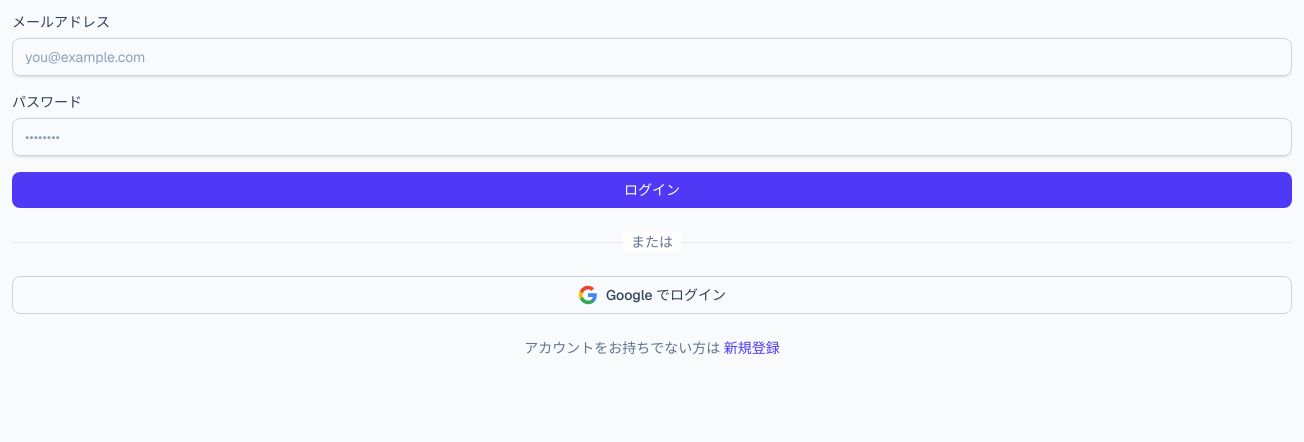
Test: LoginForm › shows error message when user not found
In the field labelled "メールアドレス": coordinates (652, 57) x1=12 y1=38 x2=1292 y2=76, type "notfound@example.com"
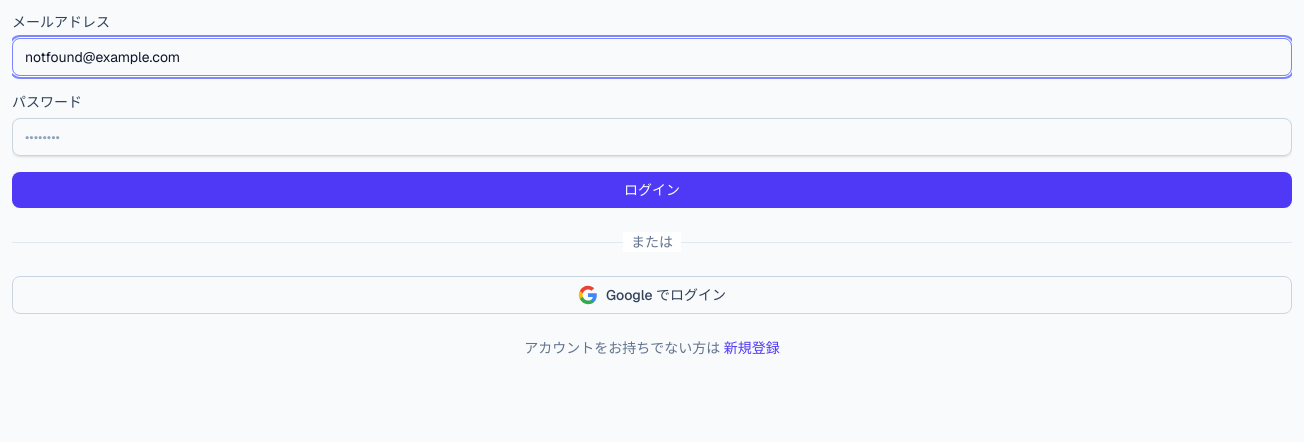
In the password field labelled "パスワード": coordinates (652, 137) x1=12 y1=118 x2=1292 y2=156, type "password123"
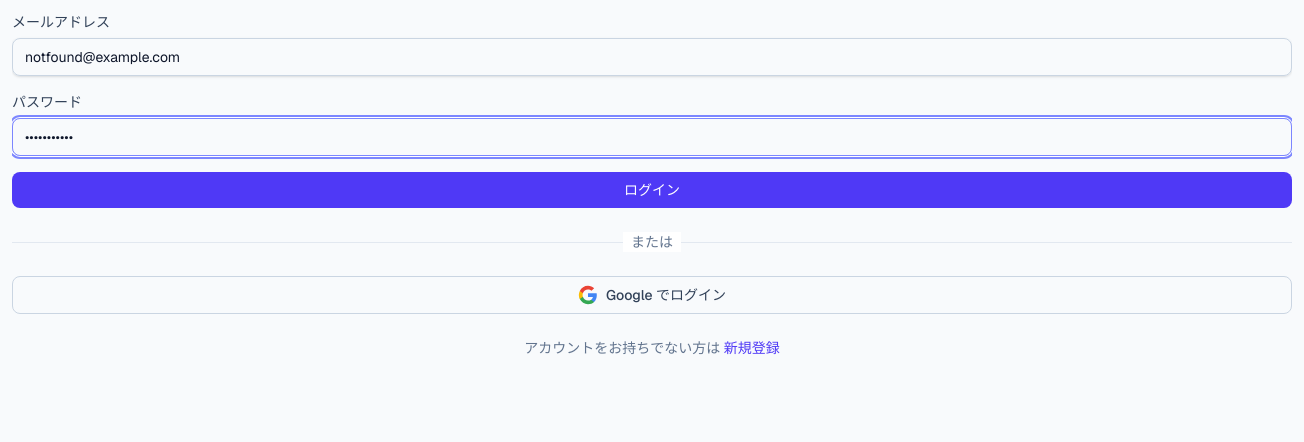
Click the button "ログイン": coordinates (652, 190) x1=12 y1=172 x2=1292 y2=208
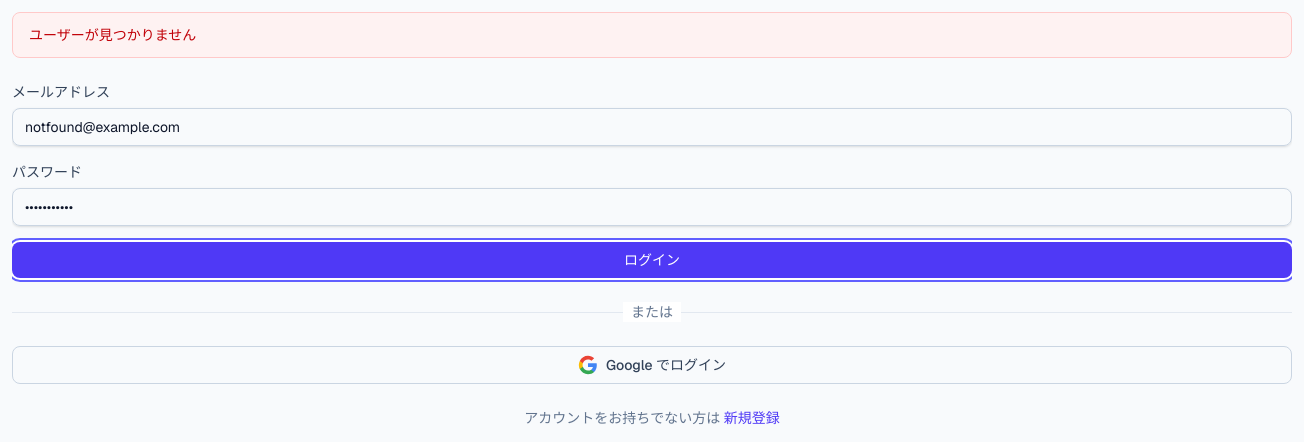
Expected: the text "ユーザーが見つかりません" is shown, x1=12 y1=12 x2=1292 y2=58
